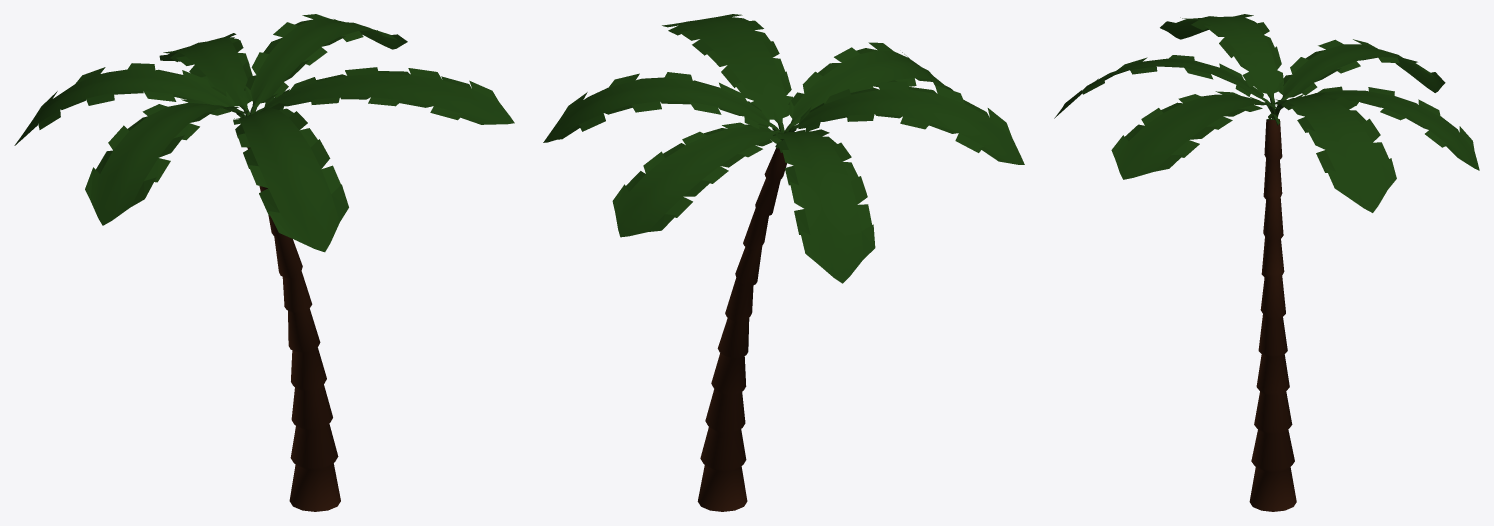
File: Palm Tree_003.fbx
3 views of the same model, side by side, from view 1: azimuth 30°, elevation 25°; view 2: azimuth 150°, elevation 25°; view 3: azimuth 270°, elevation 25° (orthographic). The views are drawn at different scales.
Parts seen in each view (by area): view 1: PalmTree_LOD0; view 2: PalmTree_LOD0; view 3: PalmTree_LOD0.
Part boxes in pixels (box(x1,y1,x2,y2)): PalmTree_LOD0: box(14, 14, 514, 511); PalmTree_LOD0: box(543, 14, 1024, 511); PalmTree_LOD0: box(1054, 14, 1479, 511).
Size of what is drawn, in the model's own units: 92.1 by 99.29 by 94.1.
